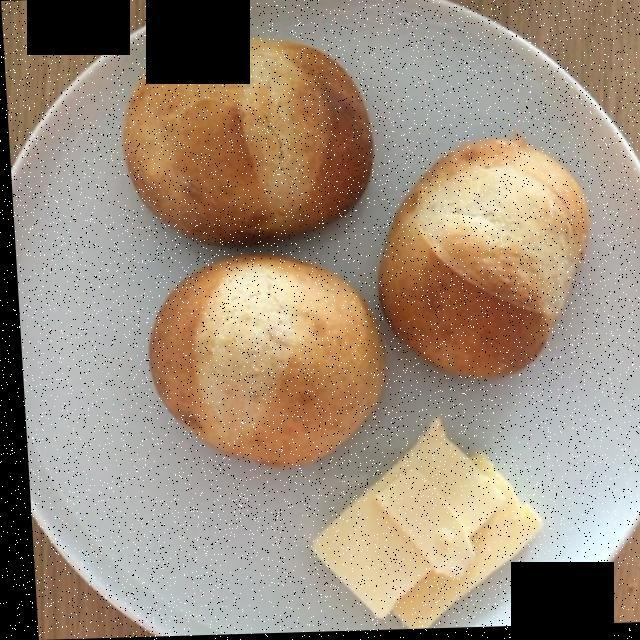bread: (109, 45, 579, 466)
butter: (311, 433, 531, 627)
